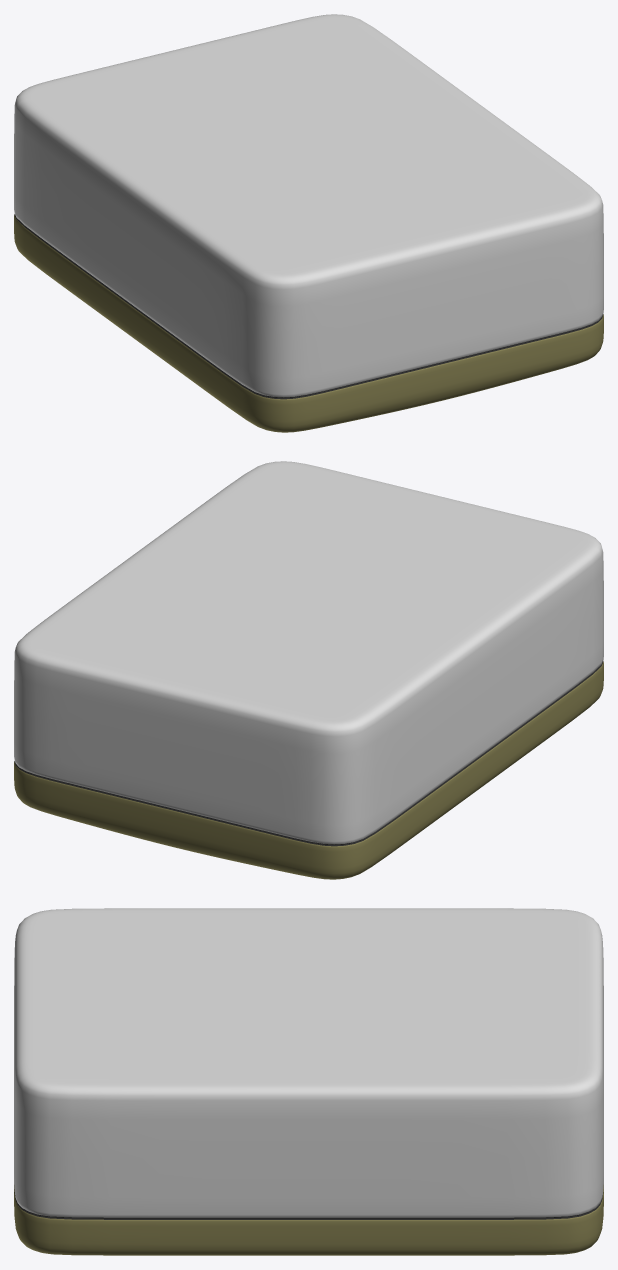
Rendered from Tile.fbx.
The picture shows the model from 3 angles, top to bottom: view 1: azimuth 30°, elevation 25°; view 2: azimuth 150°, elevation 25°; view 3: azimuth 270°, elevation 25°; orthographic projection. The views are drawn at different scales.
Parts seen in each view (by area): view 1: Tile.036; view 2: Tile.036; view 3: Tile.036.
Part boxes in pixels (left/top/right/bottom): Tile.036: left=14, top=14, right=603, bottom=432; Tile.036: left=14, top=461, right=603, bottom=879; Tile.036: left=14, top=908, right=603, bottom=1255.
Bounding box in the file's own units: 24 × 10.44 × 32.
